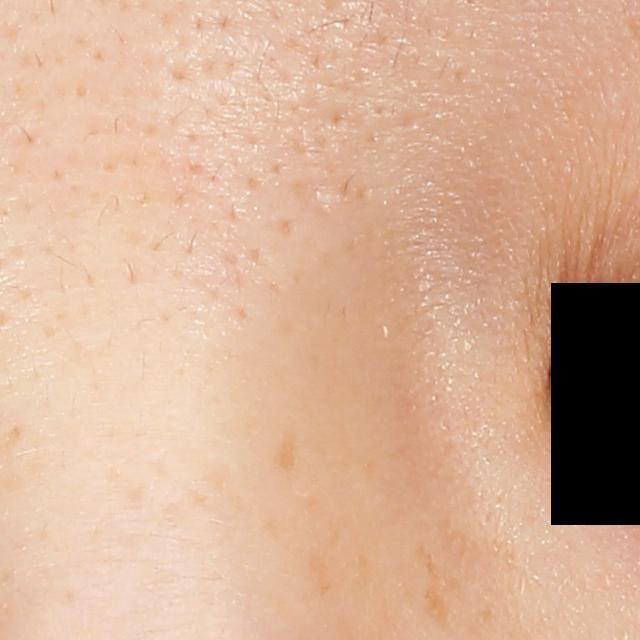melasma: (306, 549, 333, 601), (272, 423, 298, 474)
